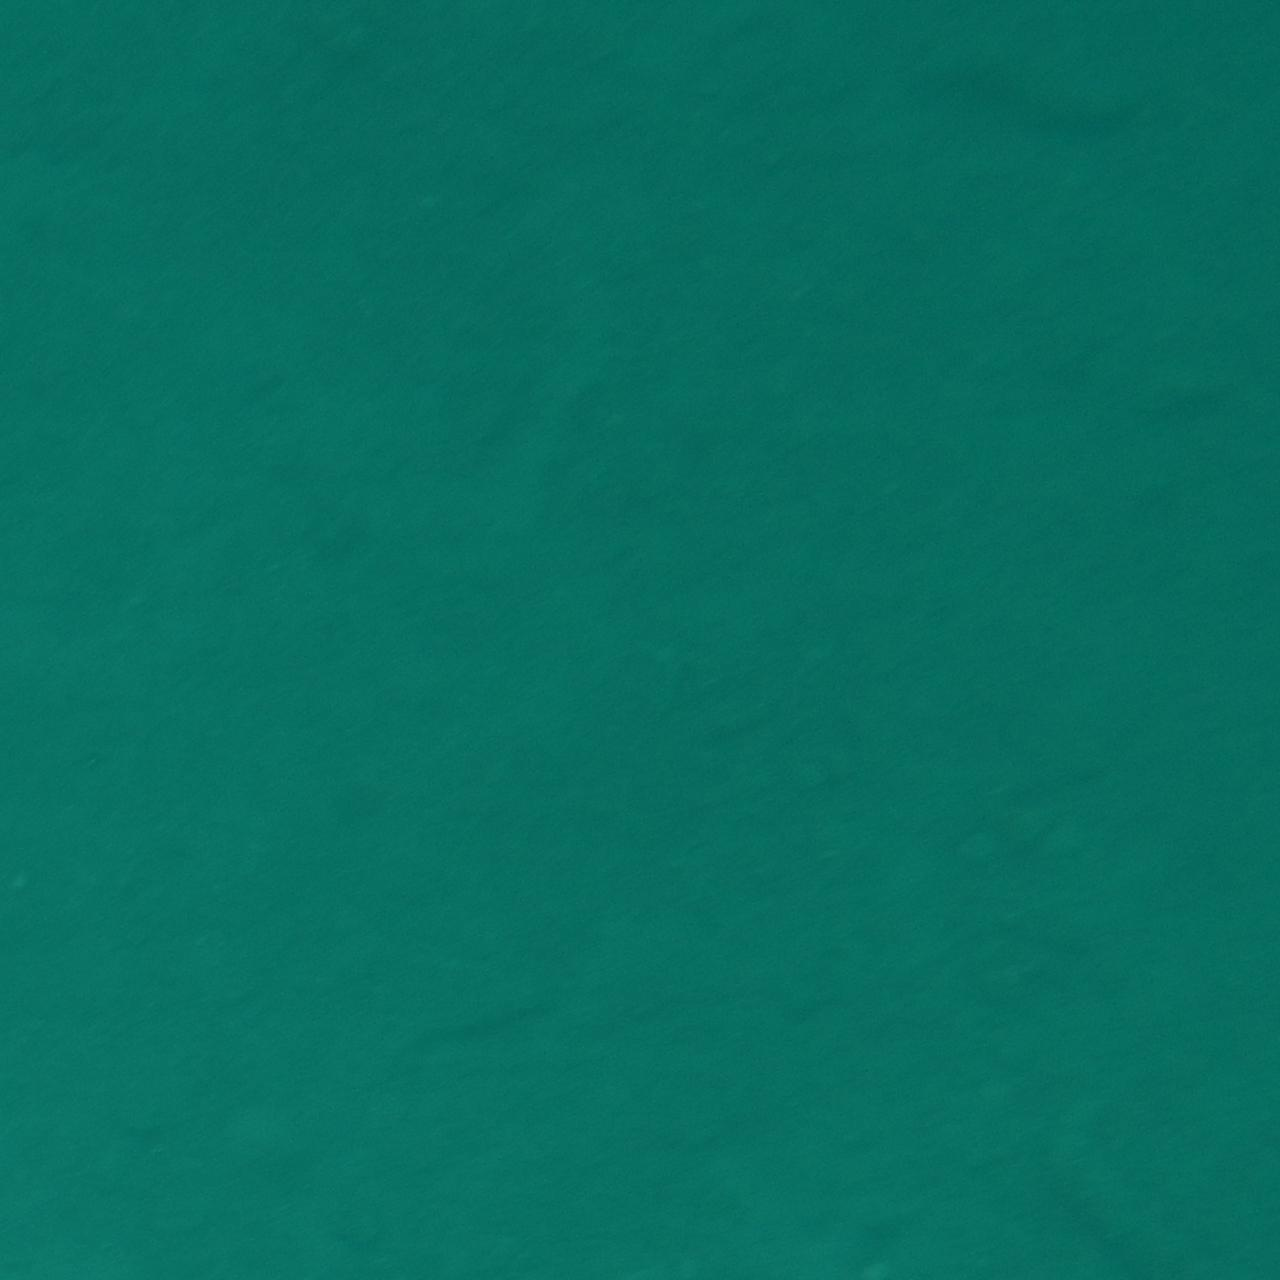Holothuria tubulosa: (873, 0, 1157, 157)
